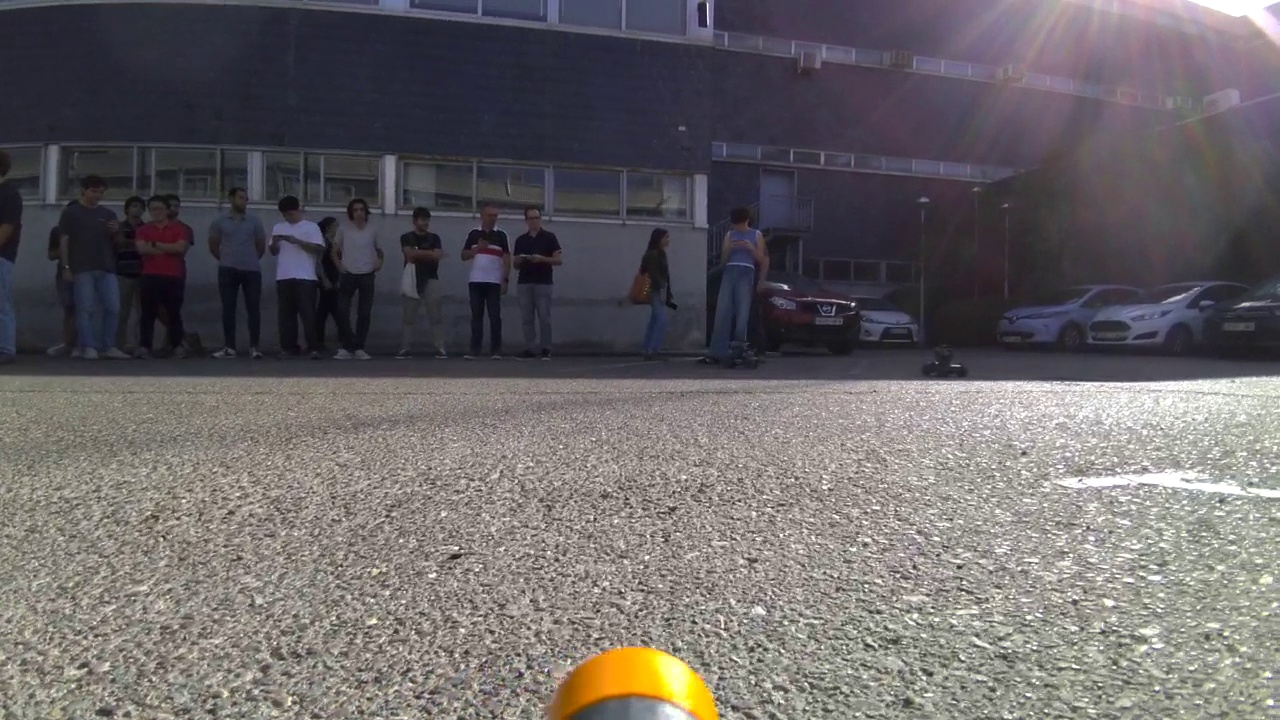robot: (928, 343, 969, 385), (724, 335, 762, 374)
